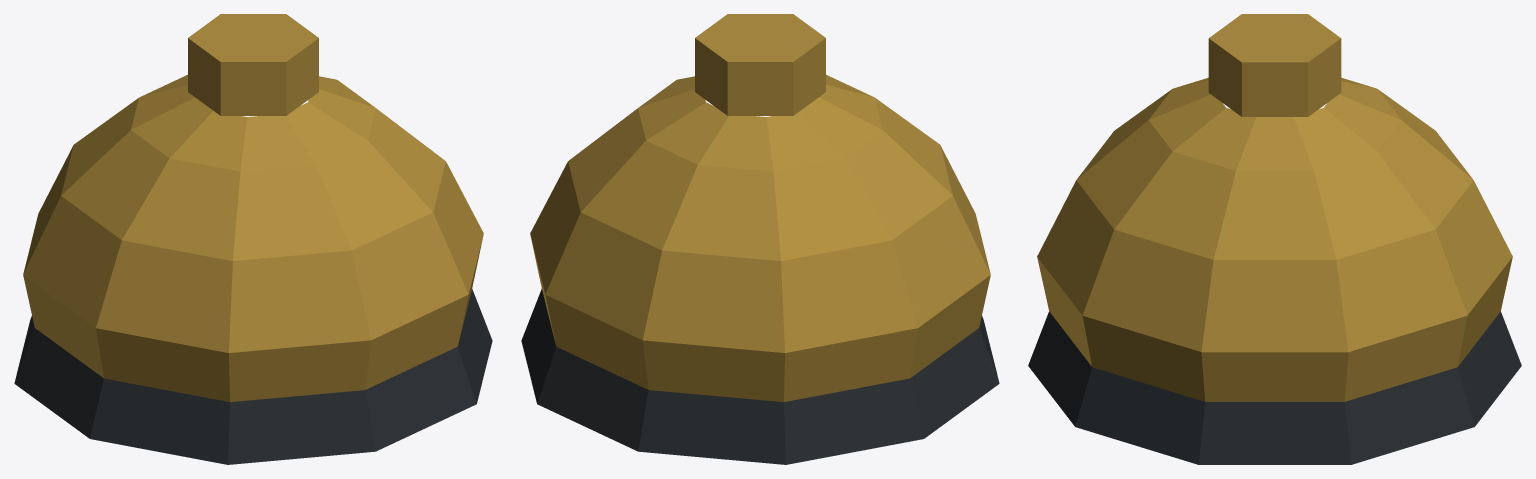
The model's file is prop-desk-bell.glb.
3 views of the same model, side by side, from view 1: azimuth 30°, elevation 25°; view 2: azimuth 150°, elevation 25°; view 3: azimuth 270°, elevation 25° (orthographic).
Visible parts, largest first — view 1: prop-desk-bell; view 2: prop-desk-bell; view 3: prop-desk-bell.
Boxes of the visible parts, x1,y1,x2,y2 form: prop-desk-bell: (14,14,492,464); prop-desk-bell: (521,14,999,464); prop-desk-bell: (1028,14,1521,464).
Size of the model in its own units: 0.156 by 0.12 by 0.164.
